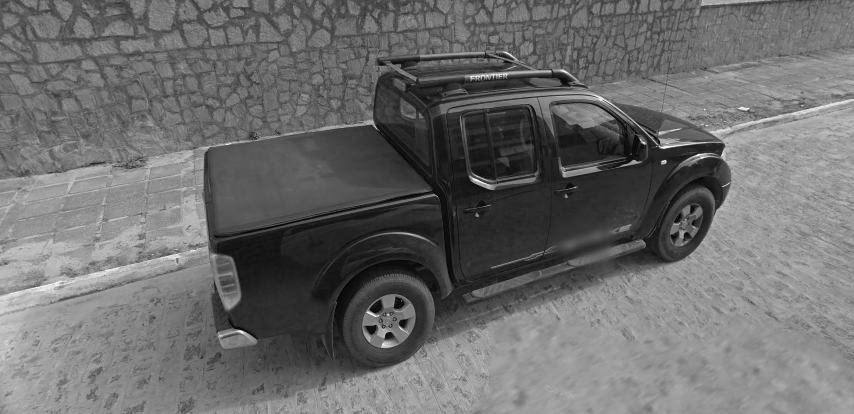car: (198, 42, 734, 374)
